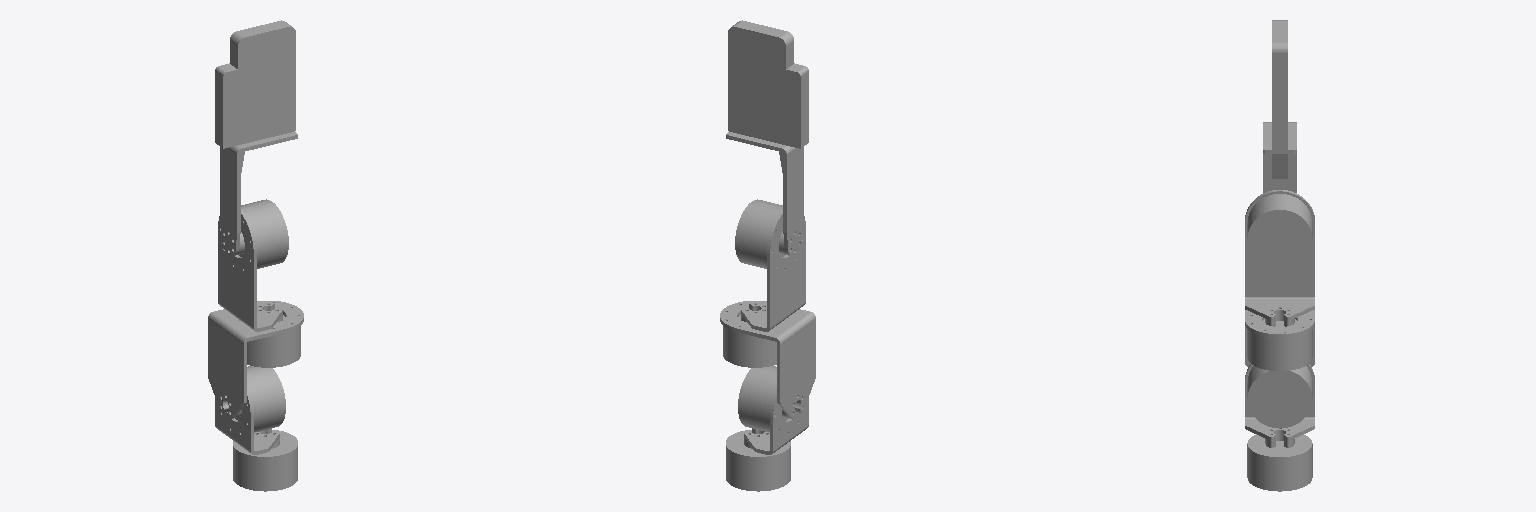
The robot description file, URDF, robot "guardian":
<?xml version="1.0"?>

<robot name="guardian" xmlns:xacro="http://www.ros.org/wiki/xacro">
    <gazebo>
        <plugin filename="libgazebo_ros_control.so" name="ros_control">
        </plugin>
    </gazebo>

    <link name="base_link" />
    <joint name="shoulder_fixed_joint" type="fixed">
        <parent link="base_link" />
        <child link="shoulder_1_link" />
        <origin rpy="0.0 0.0 0.0" xyz="0.0 0.0 0.02275" />
        <axis xyz="0 0 1" />
    </joint>
    <link name="shoulder_1_link">
        <visual>
            <geometry>
                <mesh filename="package://guardian_urdf/visual/ROBSTRIDE02.stl" />
            </geometry>
            <material name="LightGrey">
                <color rgba="0.7 0.7 0.7 1.0" />
            </material>
        </visual>
        <collision>
            <geometry>
                <mesh filename="package://guardian_urdf/visual/ROBSTRIDE02.stl" />
            </geometry>
        </collision>
        <inertial>
            <mass value="0.4" />
            <origin rpy="0 0 0" xyz="0.0 0.0 0.0" />
            <inertia ixx="0.00022306458" ixy="0.0" ixz="0.0"
                     iyx="0.0" iyy="0.00022306458" iyz="0.0"
                     izx="0.0" izy="0.0" izz="0.0003081125" />
        </inertial>
    </link>

    <joint name="bracket_arm_a_joint" type="revolute">
        <parent link="shoulder_1_link" />
        <child link="bracket-arm-a" />
        <origin rpy="0.0 -1.57079632679 0.0" xyz="0.0 0.0 0.03775" />
        <axis xyz="1 0 0" />
        <limit effort="150.0" lower="-6.2831853" upper="6.2831853" velocity="3.15" />
        <dynamics damping="0.0" friction="0.0" />
    </joint>
    <link name="bracket-arm-a">
        <visual>
            <geometry>
                <mesh filename="package://guardian_urdf/visual/0001.STL" />
            </geometry>
            <material name="LightGrey">
                <color rgba="0.7 0.7 0.7 1.0" />
            </material>
        </visual>
        <collision>
            <geometry>
                <mesh filename="package://guardian_urdf/visual/0001.STL" />
            </geometry>
        </collision>
        <inertial>
            <mass value="0.13145" />
            <origin rpy="0 0 0" xyz="0.01887 0.0 0.03071" />
            <inertia ixx="0.00023028057" ixy="0.0" ixz="0.00011378533"
                     iyx="0.0" iyy="0.00031638789" iyz="0.0"
                     izx="0.00011378533" izy="0.0" izz="0.00022896052" />
        </inertial>
    </link>

    <joint name="shoulder2_fixed_joint" type="fixed">
        <parent link="bracket-arm-a" />
        <child link="shoulder_2_link" />
        <origin rpy="0.0 0.0 0.0" xyz="0.047 0.0 0.01725" />
        <axis xyz="0 0 1" />
        <limit effort="150.0" lower="-6.2831853" upper="6.2831853" velocity="3.15" />
        <dynamics damping="0.0" friction="0.0" />
    </joint>
    <link name="shoulder_2_link">
        <visual>
            <geometry>
                <mesh filename="package://guardian_urdf/visual/ROBSTRIDE02.stl" />
            </geometry>
            <material name="LightGrey">
                <color rgba="0.7 0.7 0.7 1.0" />
            </material>
        </visual>
        <collision>
            <geometry>
                <mesh filename="package://guardian_urdf/visual/ROBSTRIDE02.stl" />
            </geometry>
        </collision>
        <inertial>
            <mass value="0.4" />
            <origin rpy="0 0 0" xyz="0.0 0.0 0.0" />
            <inertia ixx="0.00022306458" ixy="0.0" ixz="0.0"
                     iyx="0.0" iyy="0.00022306458" iyz="0.0"
                     izx="0.0" izy="0.0" izz="0.0003081125" />
        </inertial>
    </link>

    <joint name="bracket_arm_b_joint" type="revolute">
        <parent link="shoulder_2_link" />
        <child link="bracket-arm-b" />
        <origin rpy="0.0 1.570796 0.0" xyz="0.0 0.0 0.03275" />
        <axis xyz="1 0 0" />
        <limit effort="150.0" lower="-6.2831853" upper="6.2831853" velocity="3.15" />
        <dynamics damping="0.0" friction="0.0" />
    </joint>
    <link name="bracket-arm-b">
        <visual>
            <geometry>
                <mesh filename="package://guardian_urdf/visual/0002.STL" />
            </geometry>
            <material name="LightGrey">
                <color rgba="0.7 0.7 0.7 1.0" />
            </material>
        </visual>
        <collision>
            <geometry>
                <mesh filename="package://guardian_urdf/visual/0002.STL" />
            </geometry>
        </collision>
        <inertial>
            <mass value="0.20776" />
            <origin rpy="0 0 0" xyz="0.01472 0.0 0.06777" />
            <inertia ixx="0.00135916756" ixy="0.0" ixz="0.0003201893"
                     iyx="0.0" iyy="0.00144076269" iyz="0.0"
                     izx="0.0003201893" izy="0.0" izz="0.000316341" />
        </inertial>
    </link>

    <joint name="shoulder3_fixed_joint" type="fixed">
        <parent link="bracket-arm-b" />
        <child link="shoulder_3_link" />
        <origin rpy="0.0 0.0 0.0" xyz="0.054 0.0 0.07725" />
        <axis xyz="0 0 1" />
        <limit effort="150.0" lower="-6.2831853" upper="6.2831853" velocity="3.15" />
        <dynamics damping="0.0" friction="0.0" />
    </joint>
    <link name="shoulder_3_link">
        <visual>
            <geometry>
                <mesh filename="package://guardian_urdf/visual/ROBSTRIDE02.stl" />
            </geometry>
            <material name="LightGrey">
                <color rgba="0.7 0.7 0.7 1.0" />
            </material>
        </visual>
        <collision>
            <geometry>
                <mesh filename="package://guardian_urdf/visual/ROBSTRIDE02.stl" />
            </geometry>
        </collision>
        <inertial>
            <mass value="0.4" />
            <origin rpy="0 0 0" xyz="0.0 0.0 0.0" />
            <inertia ixx="0.00022306458" ixy="0.0" ixz="0.0"
                     iyx="0.0" iyy="0.00022306458" iyz="0.0"
                     izx="0.0" izy="0.0" izz="0.0003081125" />
        </inertial>
    </link>

    <joint name="bracket_arm_c_joint" type="revolute">
        <parent link="shoulder_3_link" />
        <child link="bracket-arm-c-spacer" />
        <origin rpy="0.0 -1.570796 0.0" xyz="0.0 0.0 0.02225" />
        <axis xyz="1 0 0" />
        <limit effort="150.0" lower="-6.2831853" upper="6.2831853" velocity="3.15" />
        <dynamics damping="0.0" friction="0.0" />
    </joint>

    <link name="bracket-arm-c-spacer">
        <visual>
            <geometry>
                <mesh filename="package://guardian_urdf/visual/1002.STL" />
            </geometry>
            <material name="LightGrey">
                <color rgba="0.7 0.7 0.7 1.0" />
            </material>
        </visual>
        <collision>
            <geometry>
                <mesh filename="package://guardian_urdf/visual/1002.STL" />
            </geometry>
        </collision>
        <inertial>
            <mass value="0.20776" />
            <origin rpy="0 0 0" xyz="0.01472 0.0 0.06777" />
            <inertia ixx="0.00135916756" ixy="0.0" ixz="0.0003201893"
                     iyx="0.0" iyy="0.00144076269" iyz="0.0"
                     izx="0.0003201893" izy="0.0" izz="0.00031634191" />
        </inertial>
    </link>

    <joint name="bracket_arm_c_fixed_joint" type="fixed">
        <parent link="bracket-arm-c-spacer" />
        <child link="bracket-arm-c" />
        <origin rpy="0.0 0.0 0.0" xyz="0.015 0.0 0.0" />
        <axis xyz="1 0 0" />
        <limit effort="150.0" lower="-6.2831853" upper="6.2831853" velocity="3.15" />
        <dynamics damping="0.0" friction="0.0" />
    </joint>

    <link name="bracket-arm-c">
        <visual>
            <geometry>
                <mesh filename="package://guardian_urdf/visual/0003.STL" />
            </geometry>
            <material name="LightGrey">
                <color rgba="0.7 0.7 0.7 1.0" />
            </material>
        </visual>
        <collision>
            <geometry>
                <mesh filename="package://guardian_urdf/visual/0003.STL" />
            </geometry>
        </collision>
        <inertial>
            <mass value="0.19182" />
            <origin rpy="0 0 0" xyz="0.0477 0.0 0.03442" />
            <inertia ixx="0.00037579457" ixy="0.0" ixz="0.00034067062"
                     iyx="0.0" iyy="0.00097101412" iyz="0.0"
                     izx="0.00034067062" izy="0.0" izz="0.00081077184" />
        </inertial>
    </link>

    <joint name="shoulder4_fixed_joint" type="fixed">
        <parent link="bracket-arm-c" />
        <child link="shoulder_4_link" />
        <origin rpy="0.0 0.0 0.0" xyz="0.1 0.0 0.01725" />
        <axis xyz="0 0 1" />
        <limit effort="150.0" lower="-6.2831853" upper="6.2831853" velocity="3.15" />
        <dynamics damping="0.0" friction="0.0" />
    </joint>
    <link name="shoulder_4_link">
        <visual>
            <geometry>
                <mesh filename="package://guardian_urdf/visual/ROBSTRIDE02.stl" />
            </geometry>
            <material name="LightGrey">
                <color rgba="0.7 0.7 0.7 1.0" />
            </material>
        </visual>
        <collision>
            <geometry>
                <mesh filename="package://guardian_urdf/visual/ROBSTRIDE02.stl" />
            </geometry>
        </collision>
        <inertial>
            <mass value="0.4" />
            <origin rpy="0 0 0" xyz="0.0 0.0 0.0" />
            <inertia ixx="0.00022306458" ixy="0.0" ixz="0.0"
                     iyx="0.0" iyy="0.00022306458" iyz="0.0"
                     izx="0.0" izy="0.0" izz="0.0003081125" />
        </inertial>
    </link>

    <joint name="bracket_arm_d_joint" type="revolute">
        <parent link="shoulder_4_link" />
        <child link="bracket-arm-d-spacer" />
        <origin rpy="0.0 -1.570796 0.0" xyz="0.0 0.0 0.02275" />
        <axis xyz="1 0 0" />
        <limit effort="150.0" lower="-6.2831853" upper="6.2831853" velocity="3.15" />
        <dynamics damping="0.0" friction="0.0" />
    </joint>
    <link name="bracket-arm-d-spacer">
        <visual>
            <geometry>
                <mesh filename="package://guardian_urdf/visual/1003.STL" />
            </geometry>
            <material name="LightGrey">
                <color rgba="0.7 0.7 0.7 1.0" />
            </material>
        </visual>
        <collision>
            <geometry>
                <mesh filename="package://guardian_urdf/visual/1003.STL" />
            </geometry>
        </collision>
        <inertial>
            <mass value="0.20776" />
            <origin rpy="0 0 0" xyz="0.01472 0.0 0.06777" />
            <inertia ixx="0.00135916756" ixy="0.0" ixz="0.0003201893"
                     iyx="0.0" iyy="0.00144076269" iyz="0.0"
                     izx="0.0003201893" izy="0.0" izz="0.00031634191" />
        </inertial>
    </link>

    <joint name="bracket_arm_d_fixed_joint" type="fixed">
        <parent link="bracket-arm-d-spacer" />
        <child link="bracket-arm-d" />
        <origin rpy="0.0 3.141592 0.0" xyz="0.01 0.0 0.0" />
        <axis xyz="1 0 0" />
        <limit effort="150.0" lower="-6.2831853" upper="6.2831853" velocity="3.15" />
        <dynamics damping="0.0" friction="0.0" />
    </joint>
    <link name="bracket-arm-d">
        <visual>
            <geometry>
                <mesh filename="package://guardian_urdf/visual/0004.STL" />
            </geometry>
            <material name="LightGrey">
                <color rgba="0.7 0.7 0.7 1.0" />
            </material>
        </visual>
        <collision>
            <geometry>
                <mesh filename="package://guardian_urdf/visual/0004.STL" />
            </geometry>
        </collision>
        <inertial>
            <mass value="1.11931" />
            <origin rpy="0 0 0" xyz="0.03603 0.0 0.18260" />
            <inertia ixx="0.04049963402" ixy="0.00000000389" ixz="0.00798063223"
                     iyx="0.00000000389" iyy="0.04280276251" iyz="0.00000000257"
                     izx="0.00798063223" izy="0.00000000257" izz="0.00247814889" />
        </inertial>
    </link>

    <joint name="hand_fixed_joint" type="fixed">
        <parent link="bracket-arm-d" />
        <child link="arm_hand" />
        <origin rpy="-1.570796 0.0 0.0" xyz="0.042 0.0 0.2" />
        <axis xyz="0 0 1" />
        <limit effort="150.0" lower="-6.2831853" upper="6.2831853" velocity="3.15" />
        <dynamics damping="0.0" friction="0.0" />
    </joint>
    <link name="arm_hand">
        <visual>
            <geometry>
                <mesh filename="package://guardian_urdf/visual/0005.STL" />
            </geometry>
            <material name="LightGrey">
                <color rgba="0.7 0.7 0.7 1.0" />
            </material>
        </visual>
        <collision>
            <geometry>
                <mesh filename="package://guardian_urdf/visual/0005.STL" />
            </geometry>
        </collision>
        <inertial>
            <mass value="0.162" />
            <origin rpy="0 0 0" xyz="0.03673 0.0 0.1844" />
            <inertia ixx="0.0059536011" ixy="0.00000000057" ixz="0.0011790485"
                     iyx="0.00000000057" iyy="0.00629436576" iyz="0.00000000038"
                     izx="0.0011790485" izy="0.00000000038" izz="0.00036641871" />
        </inertial>
    </link>


    <!-- nothing to do here at the moment -->
    <link name="world" />
    <joint name="world_joint" type="fixed">
        <parent link="world" />
        <child link="base_link" />
        <origin rpy="0.0 0.0 0.0" xyz="0.0 0.0 0.0" />
    </joint>
</robot>

--- Render facts (derived) ---
The picture shows the robot from 3 angles, left to right: view 1: azimuth 30°, elevation 25°; view 2: azimuth 150°, elevation 25°; view 3: azimuth 270°, elevation 25°; orthographic projection.
Robot: guardian — 13 links, 12 joints (4 revolute, 8 fixed); root link world; default pose: all joints at 0.
Visible links, largest first — view 1: arm_hand, bracket-arm-b, bracket-arm-c, shoulder_1_link, bracket-arm-d, shoulder_4_link, shoulder_2_link, bracket-arm-a, shoulder_3_link; view 2: arm_hand, bracket-arm-b, bracket-arm-c, shoulder_1_link, bracket-arm-d, shoulder_4_link, shoulder_2_link, bracket-arm-a, shoulder_3_link; view 3: bracket-arm-c, shoulder_4_link, shoulder_2_link, shoulder_1_link, shoulder_3_link, arm_hand, bracket-arm-d, bracket-arm-a, bracket-arm-b.
Boxes of the visible links, bbox=[...] form: arm_hand: bbox=[215, 20, 295, 148]; bracket-arm-b: bbox=[208, 301, 303, 418]; bracket-arm-c: bbox=[218, 209, 282, 331]; shoulder_1_link: bbox=[233, 430, 297, 491]; bracket-arm-d: bbox=[220, 132, 297, 256]; shoulder_4_link: bbox=[239, 199, 288, 268]; shoulder_2_link: bbox=[235, 366, 285, 432]; bracket-arm-a: bbox=[215, 386, 279, 454]; shoulder_3_link: bbox=[247, 315, 300, 367]; arm_hand: bbox=[728, 20, 808, 148]; bracket-arm-b: bbox=[720, 301, 815, 418]; bracket-arm-c: bbox=[741, 209, 805, 331]; shoulder_1_link: bbox=[726, 430, 790, 491]; bracket-arm-d: bbox=[726, 132, 803, 256]; shoulder_4_link: bbox=[735, 199, 784, 268]; shoulder_2_link: bbox=[738, 366, 788, 432]; bracket-arm-a: bbox=[744, 386, 808, 454]; shoulder_3_link: bbox=[723, 315, 776, 367]; bracket-arm-c: bbox=[1245, 190, 1314, 320]; shoulder_4_link: bbox=[1247, 194, 1312, 268]; shoulder_2_link: bbox=[1247, 366, 1312, 427]; shoulder_1_link: bbox=[1247, 434, 1312, 491]; shoulder_3_link: bbox=[1247, 319, 1312, 370]; arm_hand: bbox=[1272, 20, 1287, 150]; bracket-arm-d: bbox=[1263, 122, 1296, 192]; bracket-arm-a: bbox=[1245, 364, 1314, 447]; bracket-arm-b: bbox=[1245, 310, 1314, 366].
Size in the robot's own frame: 0.1104 by 0.085 by 0.592 metres.
11 mesh visuals loaded from 8 distinct referenced files (8 binary STL).
